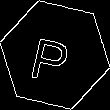P_N: (31, 26, 79, 84)
